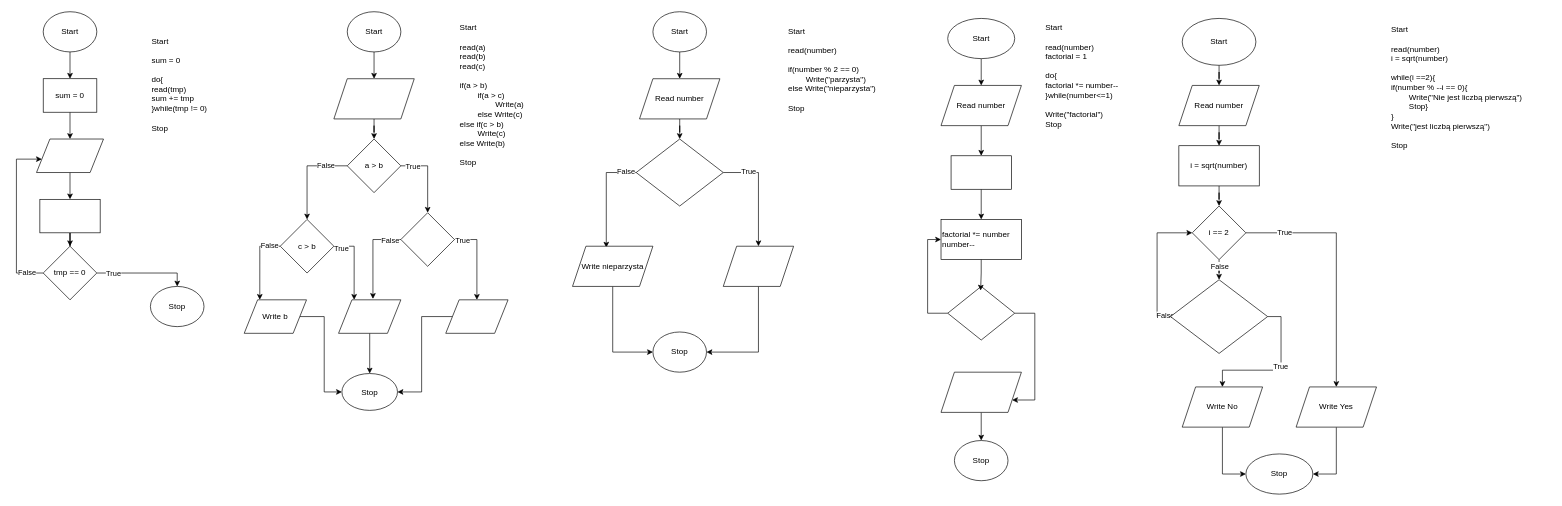
The diagram is 1562 pixels wide and 506 high, and some of its shapes have lost their labels. The box of each missing label's shape, as (x1, y1, x2, y2) in pixels:
a > c: (400, 212, 454, 266)
factorial = 1: (950, 155, 1011, 189)
number % --i == 0: (1170, 279, 1268, 353)
number % 2 == 0: (635, 138, 723, 206)
number <= 1: (947, 286, 1015, 340)
Read a Read b Read c: (333, 78, 414, 119)
Read tmp: (36, 138, 104, 173)
sum += tmp: (39, 199, 100, 233)
Write a: (445, 299, 508, 333)
Write c: (338, 299, 401, 333)
Write factorial: (940, 372, 1021, 412)
Write parzysta: (723, 246, 794, 286)
